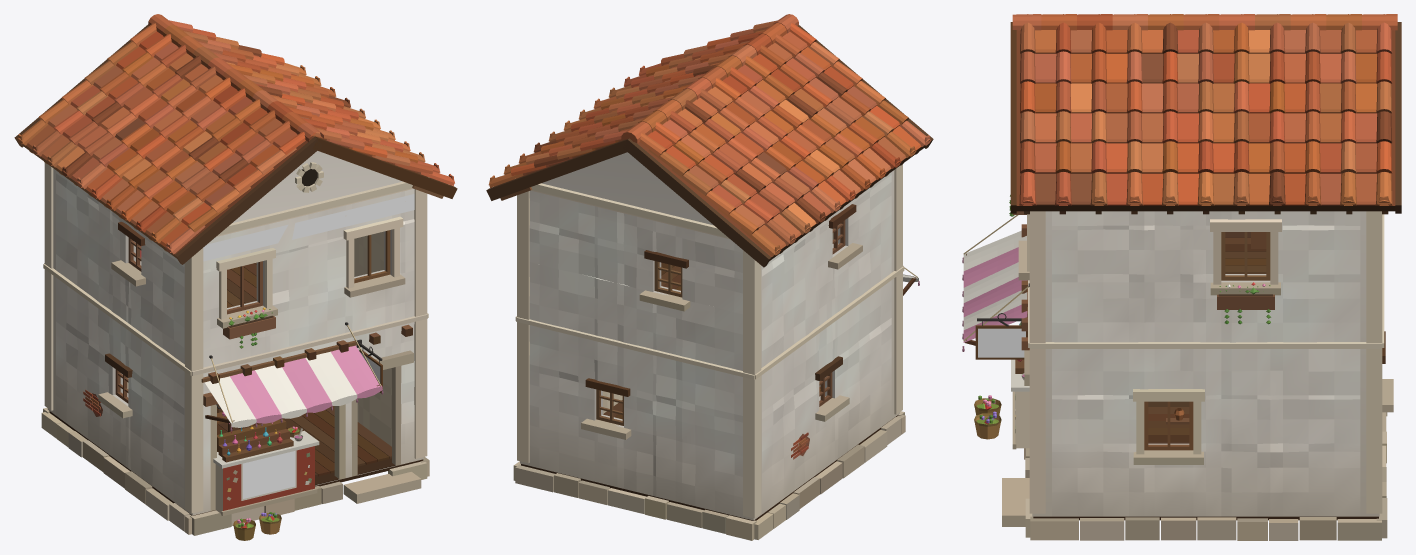
The model's file is shop_perfumer.glb.
3 renders of one model, left to right at view 1: azimuth 30°, elevation 25°; view 2: azimuth 150°, elevation 25°; view 3: azimuth 270°, elevation 25°, orthographic. The views are drawn at different scales.
Visible parts, largest first — view 1: House, Walls, Rooms, Frieze; view 2: Walls, House, Rooms; view 3: House, Walls, Rooms.
Part boxes in pixels (x1,y1,x2,y2): House: (14,14,457,540); Walls: (47,151,424,515); Rooms: (127,231,391,476); Frieze: (203,194,414,261); Walls: (520,152,899,520); House: (486,14,933,540); Rooms: (603,228,833,419); House: (962,14,1401,540); Walls: (1032,211,1379,516); Rooms: (1148,232,1266,443).
Bounding box in the file's own units: 4.44 × 5.63 × 4.93.
Materials: 8 (8 with a texture image).
